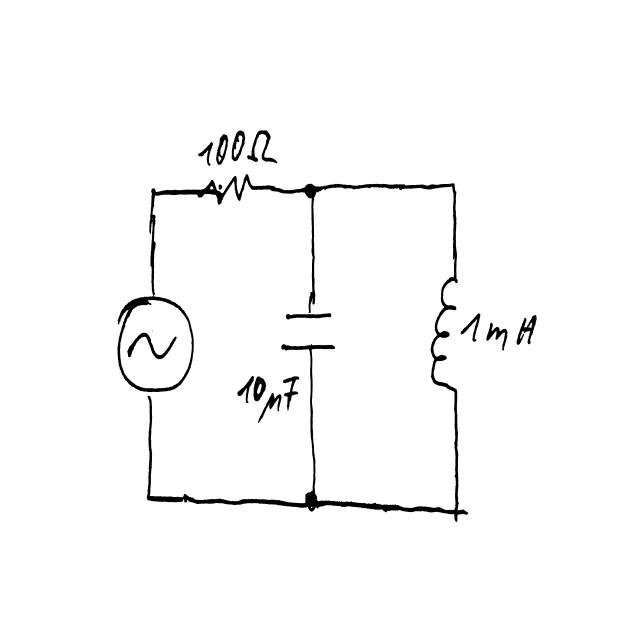capacitor: (279, 310, 338, 355)
inductor: (427, 273, 464, 397)
junction: (301, 177, 324, 208), (300, 488, 322, 514), (145, 180, 163, 207), (446, 500, 465, 524), (446, 176, 462, 200), (142, 486, 158, 508)
resistor: (194, 171, 256, 207)
source: (115, 294, 195, 395)
text: (236, 372, 300, 422), (195, 129, 278, 166), (460, 314, 539, 351)
